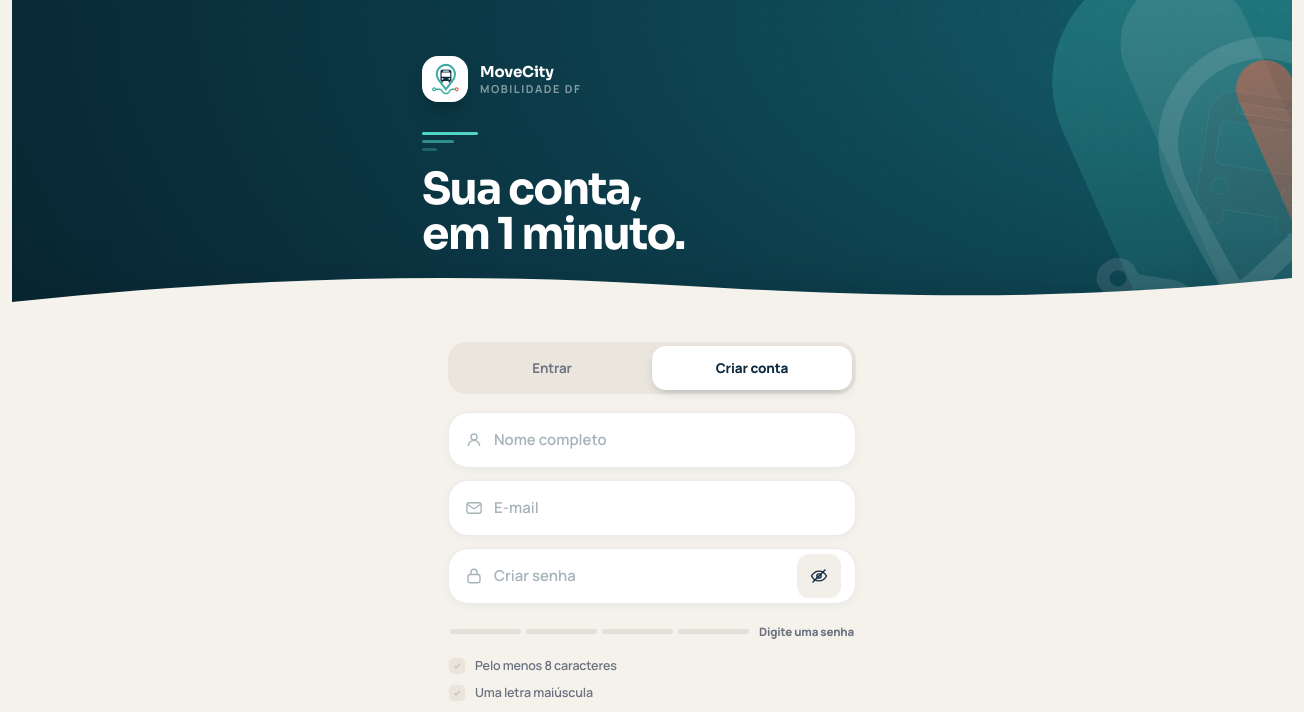
Test: Cadastro › mede a força da senha conforme os critérios atendidos
Expected: the text "Digite uma senha" is shown, [759,624,854,639]
Type "abcdefgh" into the password field labelled "senha".
click(640, 576); type("abcdefgh")  # box [494,549,786,603]
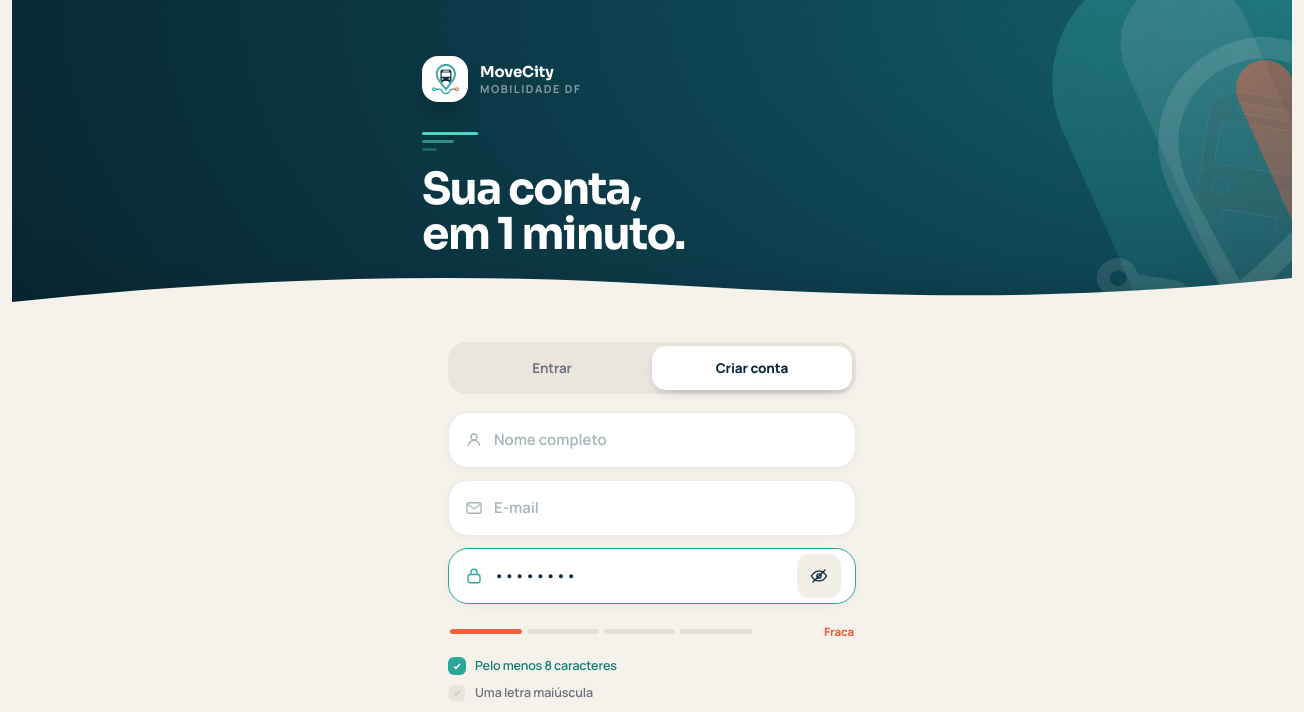
Result: the text "Fraca" is shown at [824,624,854,639]
Type "Abcdefg1!" into the password field named "senha".
click(640, 576); type("Abcdefg1!")  # box [494,549,786,603]
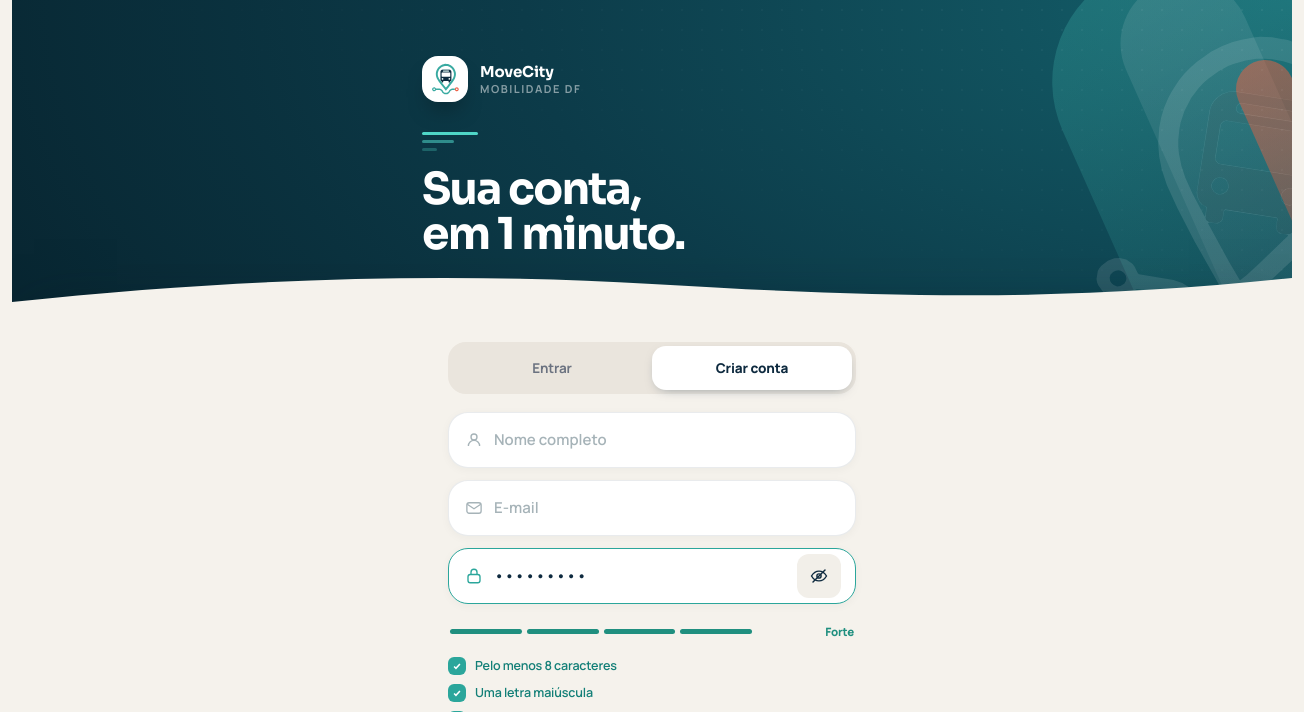
Result: the text "Forte" is shown at [825,624,854,639]
